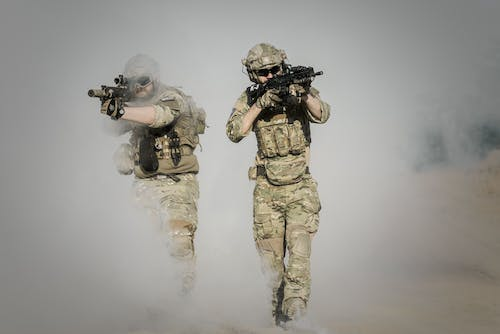gun: (245, 62, 325, 115), (88, 71, 135, 101)
